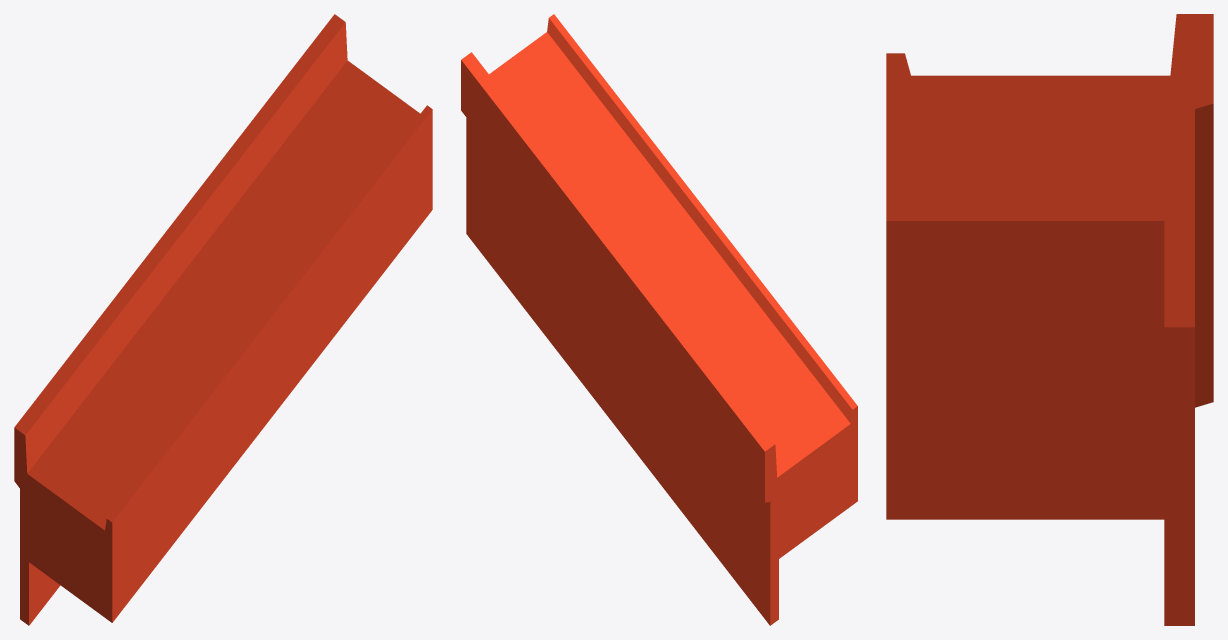
Rendered from roof-metal-regular-1m-front.fbx.
3 views of the same model, side by side, from view 1: azimuth 30°, elevation 25°; view 2: azimuth 150°, elevation 25°; view 3: azimuth 270°, elevation 25° (orthographic). The views are drawn at different scales.
Visible parts, largest first — view 1: roof-metal-regular-1m-front; view 2: roof-metal-regular-1m-front; view 3: roof-metal-regular-1m-front.
Part boxes in pixels (x1=…): roof-metal-regular-1m-front: x1=14, y1=14, x2=432, y2=625; roof-metal-regular-1m-front: x1=461, y1=14, x2=857, y2=625; roof-metal-regular-1m-front: x1=886, y1=14, x2=1213, y2=625.
Size of the model in its own units: 1 by 1.56 by 0.53.
